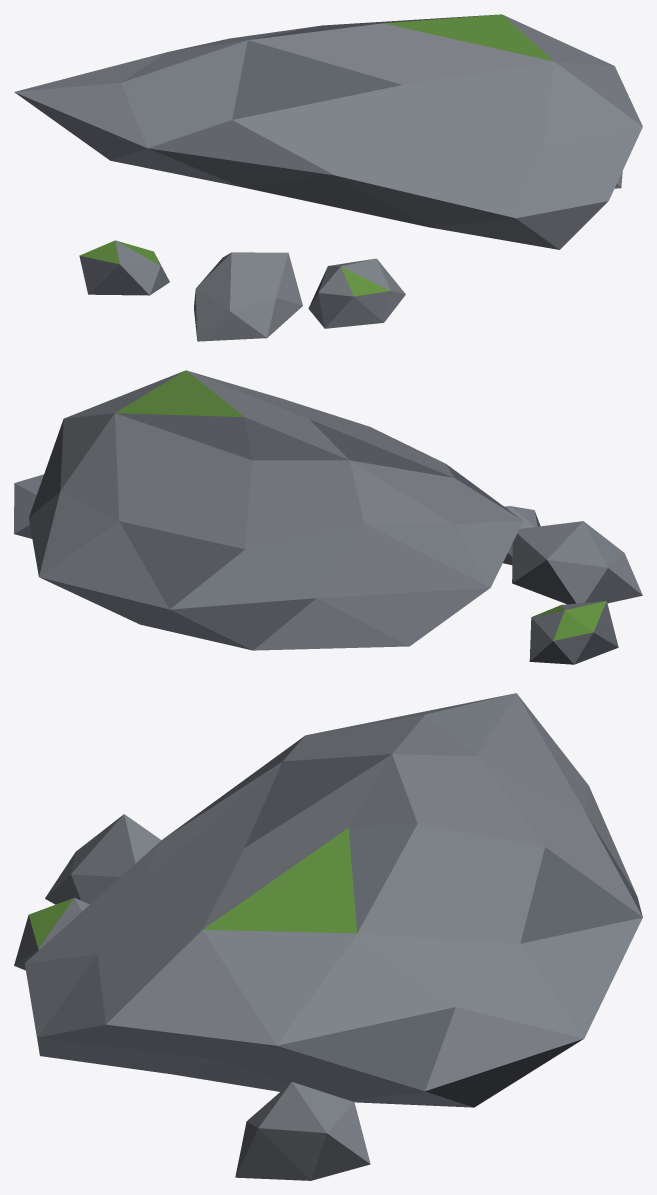
File: rock_03.glb
3 renders of one model, top to bottom at view 1: azimuth 30°, elevation 25°; view 2: azimuth 150°, elevation 25°; view 3: azimuth 270°, elevation 25°, orthographic. The views are drawn at different scales.
Visible parts, largest first — view 1: rock_03; view 2: rock_03; view 3: rock_03.
Boxes of the visible parts, x1,y1,x2,y2 form: rock_03: (14, 14, 642, 341); rock_03: (14, 370, 642, 664); rock_03: (14, 693, 642, 1180).
Size of the model in its own units: 3.08 by 0.9461 by 2.35.
